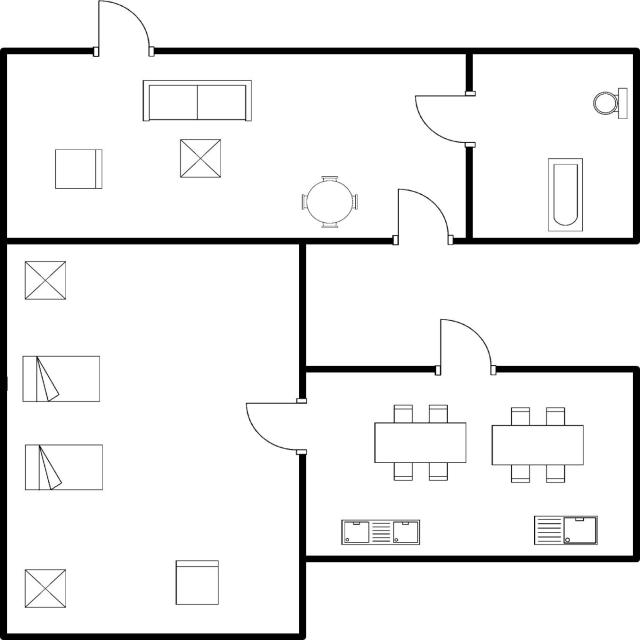bed: (16, 352, 108, 408), (19, 439, 108, 495)
coffee_table: (17, 561, 72, 612), (20, 255, 71, 303), (174, 134, 226, 180)
dining_table: (484, 401, 586, 486), (370, 399, 470, 484)
large_sink: (589, 82, 629, 123)
large_sofa: (136, 75, 258, 125)
round_table: (296, 170, 362, 231)
sink: (527, 510, 601, 550)
small_sofa: (171, 554, 223, 610), (48, 146, 106, 192)
tub: (540, 154, 586, 235)
twin_sink: (334, 513, 422, 548)
